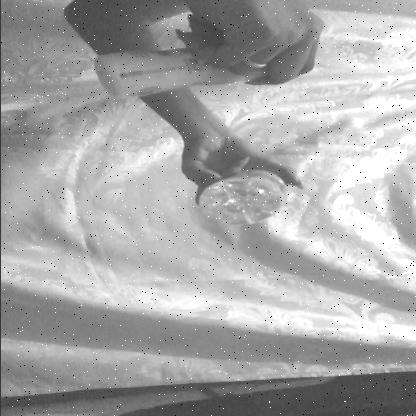Plastic Bottle: (145, 150, 328, 255)
